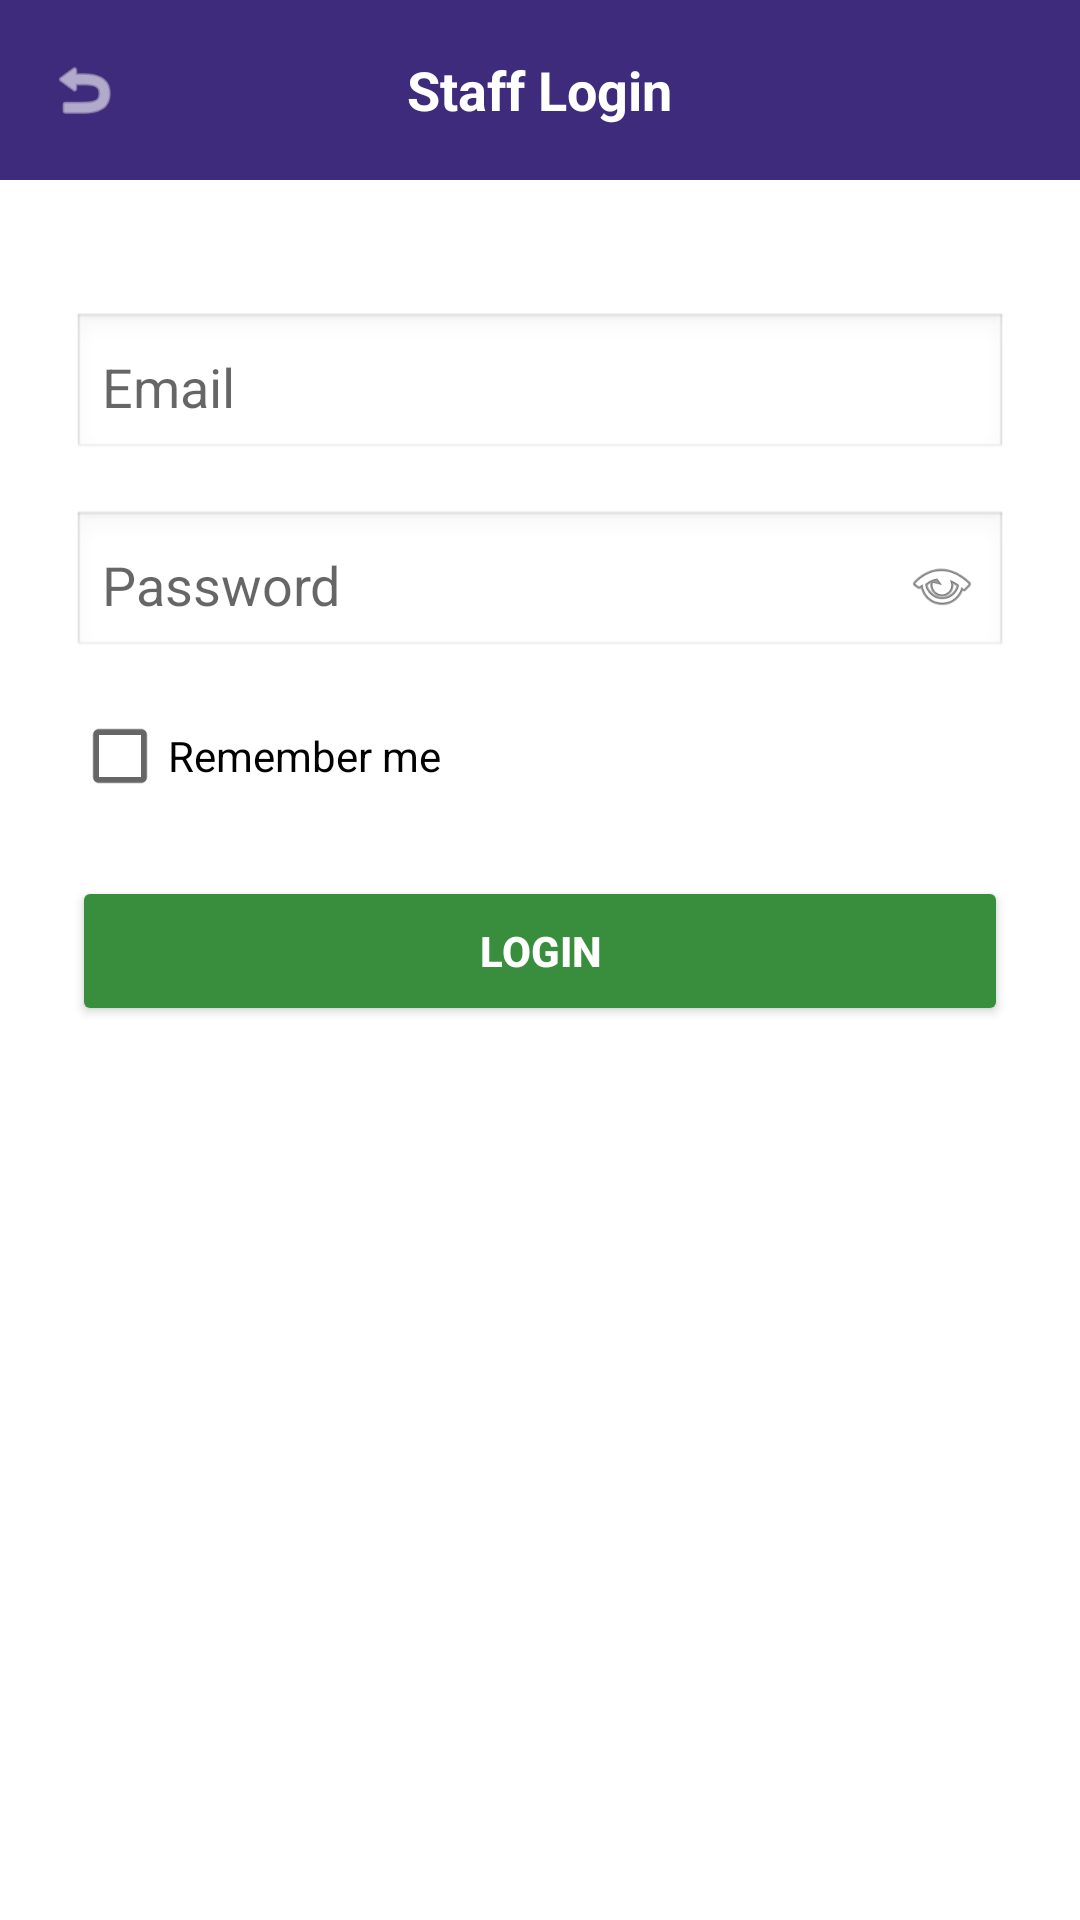

Point at icon controls on the screen. Image size 1080x1920, points as [x,y].
Back: [85,90]
